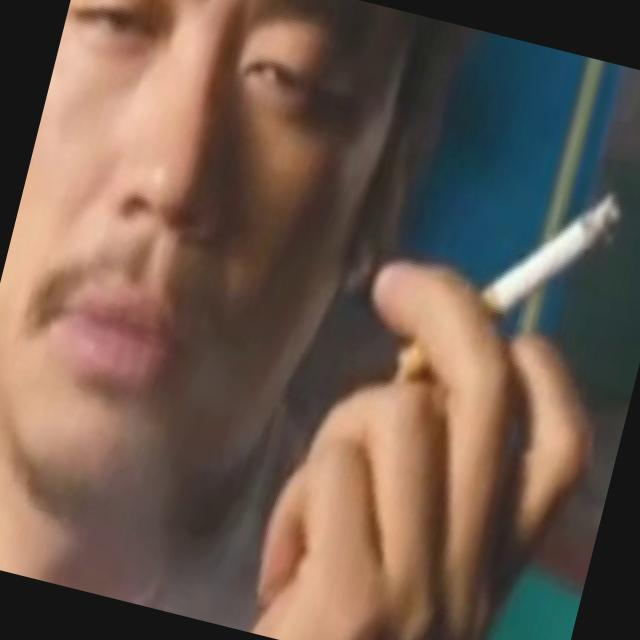cigarette: (378, 126, 640, 438)
